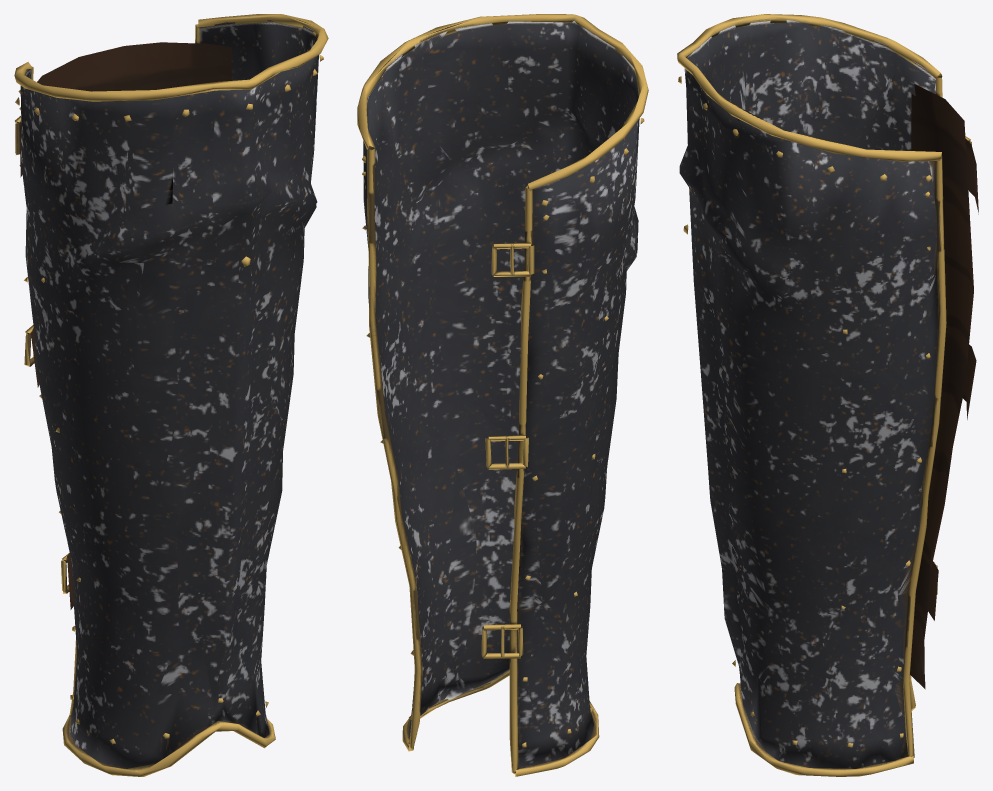
File: SM_EagleGreaves_R_LOD3.fbx
3 renders of one model, left to right at view 1: azimuth 30°, elevation 25°; view 2: azimuth 150°, elevation 25°; view 3: azimuth 270°, elevation 25°, orthographic. The views are drawn at different scales.
Parts seen in each view (by area): view 1: SM_EagleGreaves_R_LOD3; view 2: SM_EagleGreaves_R_LOD3; view 3: SM_EagleGreaves_R_LOD3.
Boxes of the visible parts, x1,y1,x2,y2 form: SM_EagleGreaves_R_LOD3: [14, 14, 328, 776]; SM_EagleGreaves_R_LOD3: [357, 14, 648, 776]; SM_EagleGreaves_R_LOD3: [677, 14, 978, 776].
Bounding box in the file's own units: 0.149 × 0.3745 × 0.1499.
